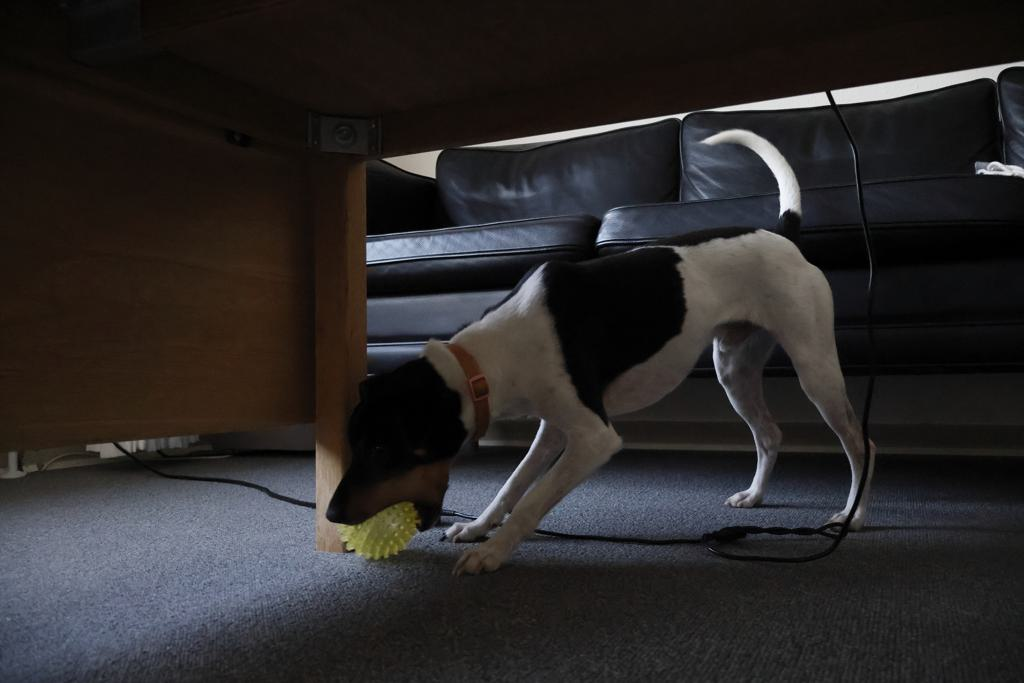Dog: (311, 119, 883, 581)
